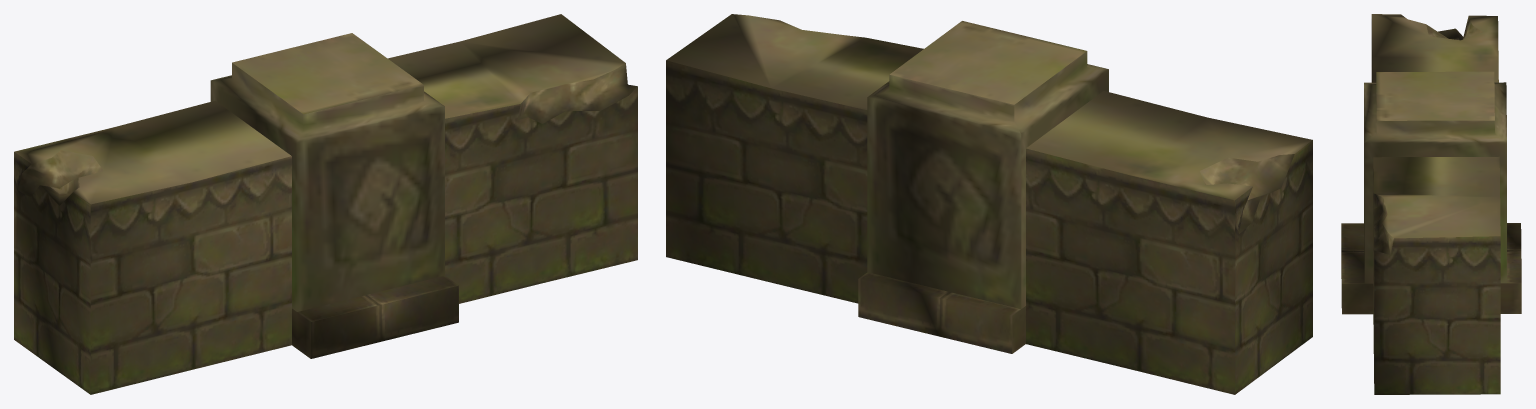
File: bridge_F2.fbx
3 renders of one model, left to right at view 1: azimuth 30°, elevation 25°; view 2: azimuth 150°, elevation 25°; view 3: azimuth 270°, elevation 25°, orthographic. The views are drawn at different scales.
Parts seen in each view (by area): view 1: bridge_F2; view 2: bridge_F2; view 3: bridge_F2.
Part boxes in pixels (box(x1,y1,x2,y2)): bridge_F2: box(14, 14, 637, 394); bridge_F2: box(666, 14, 1312, 394); bridge_F2: box(1341, 14, 1521, 394).
Bounding box in the file's own units: 5.55 × 2.18 × 1.9.
